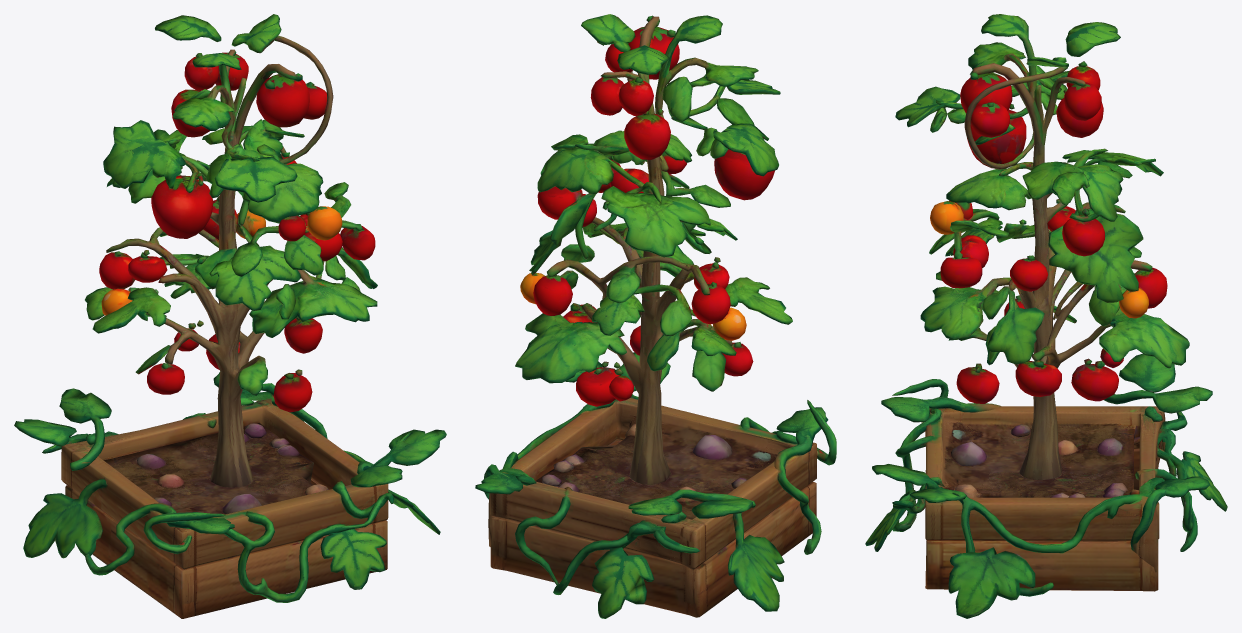
The model's file is tomato_tree.glb.
3 renders of one model, left to right at view 1: azimuth 30°, elevation 25°; view 2: azimuth 150°, elevation 25°; view 3: azimuth 270°, elevation 25°, orthographic. The views are drawn at different scales.
Bounding box in the file's own units: 1.28 × 1.89 × 1.23.
1 material, 1 textured.
